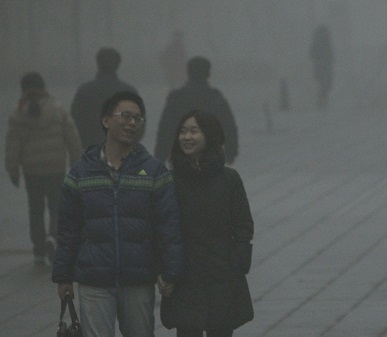person: (51, 92, 182, 337), (154, 105, 257, 337), (6, 69, 90, 266), (154, 55, 248, 167), (71, 46, 147, 145), (307, 26, 343, 106)
